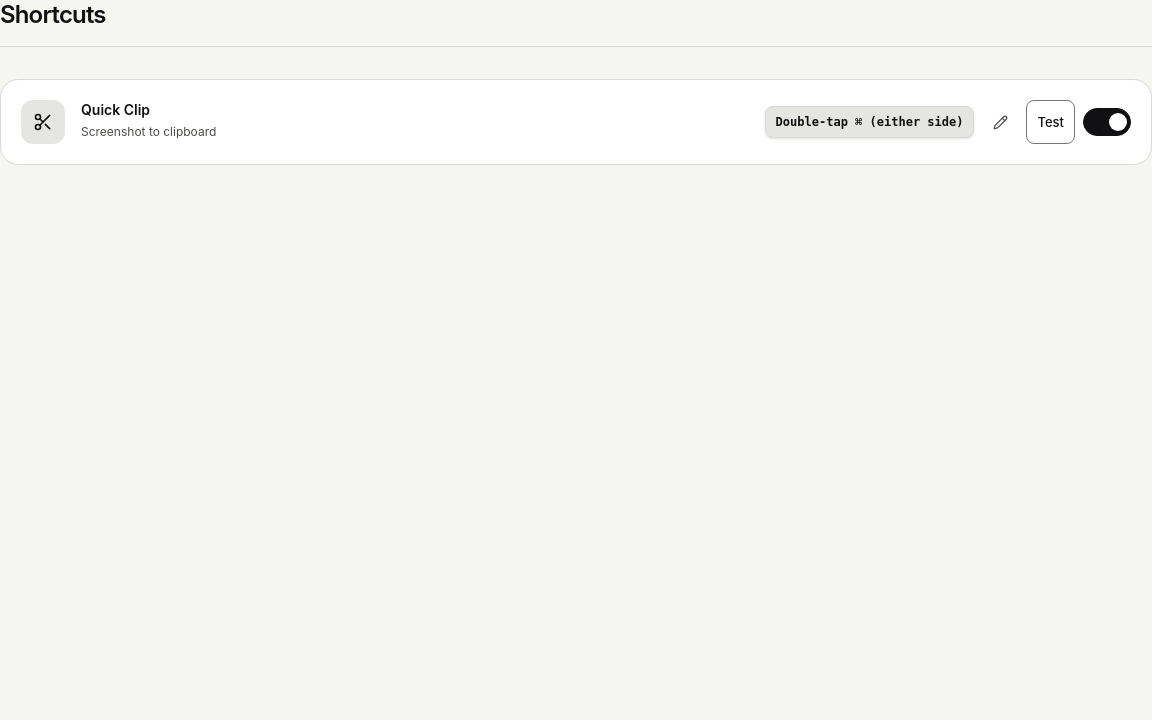
it: native Quick Clip settings › keeps shortcut editing to one double-tap field
Check: the switch named "Enable Quick Clip" is shown, box top-left (1083, 108), bottom-right (1131, 136)
Click the button named "Edit Quick Clip shortcut": [1000, 122] box top-left (982, 104), bottom-right (1018, 140)
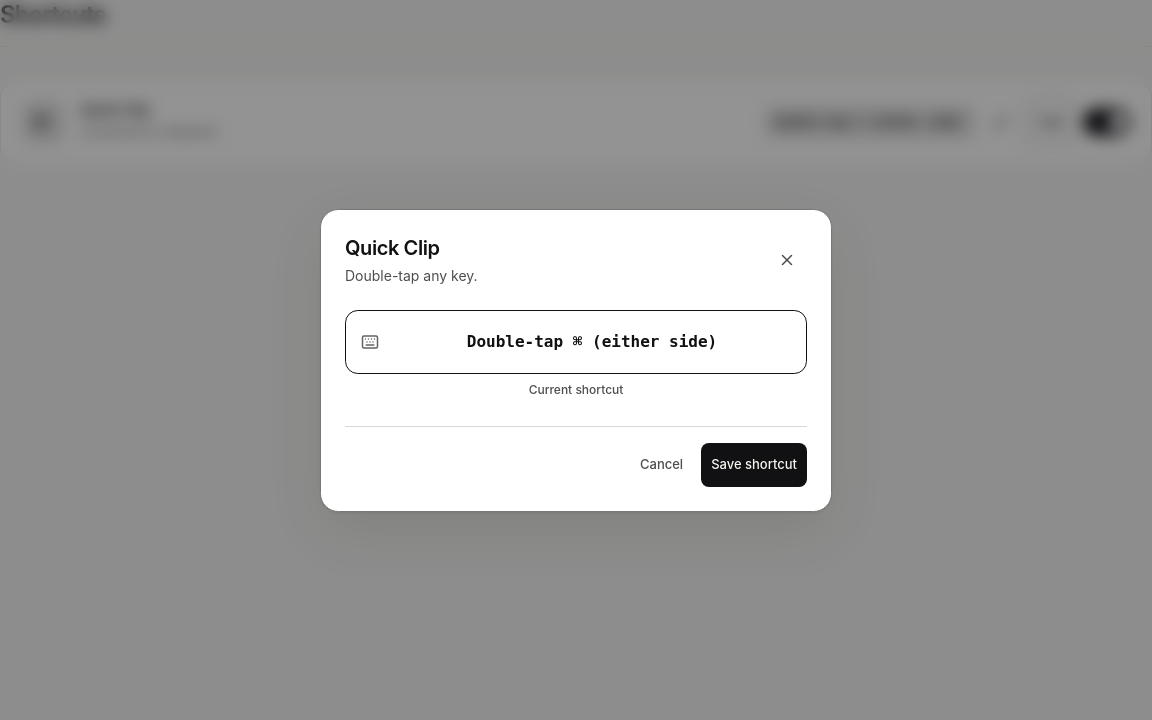
Check: the heading "Quick Clip" is shown, box top-left (345, 236), bottom-right (440, 260)
Check: the text "Double-tap any key." is shown, box top-left (345, 266), bottom-right (478, 286)
Check: the field named "Shortcut" is shown, box top-left (345, 310), bottom-right (807, 374)
Click the button named "Close shortcut editor": [787, 260] box top-left (767, 240), bottom-right (807, 280)
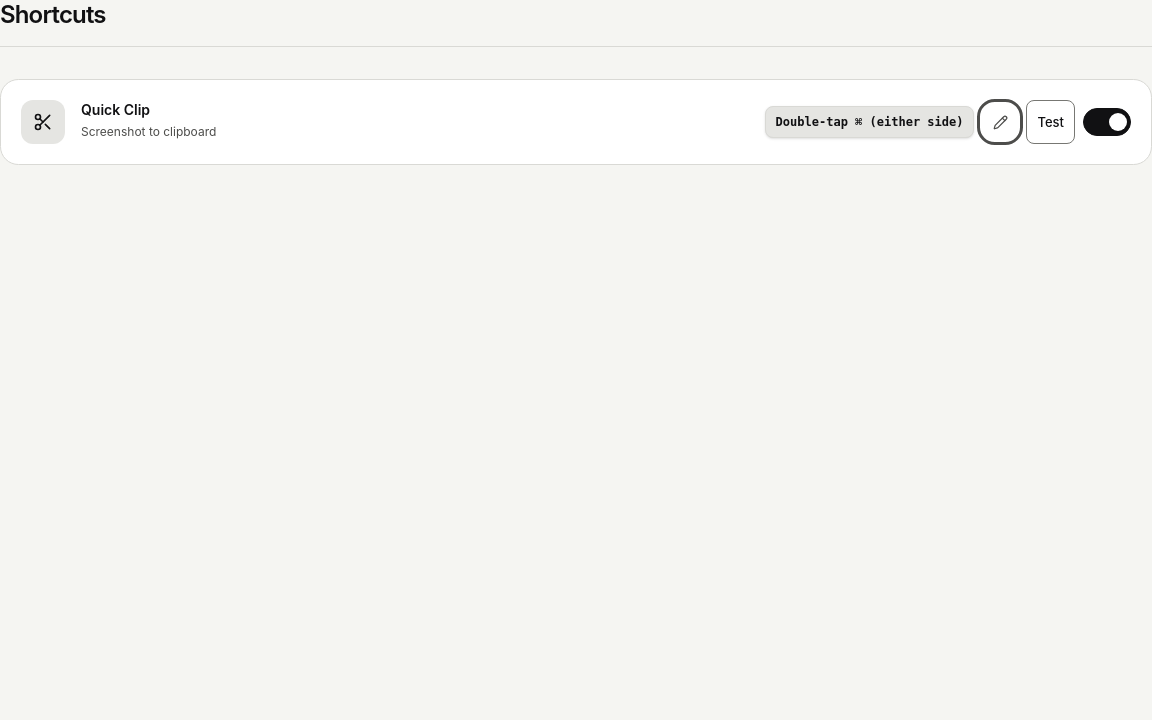
Check: the dialog is gone
